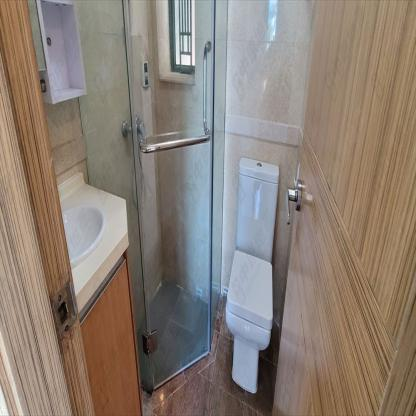Toilet: (225, 156, 282, 390)
Toilet Sink: (63, 202, 103, 268)
Water Cubicle: (78, 1, 229, 392)
